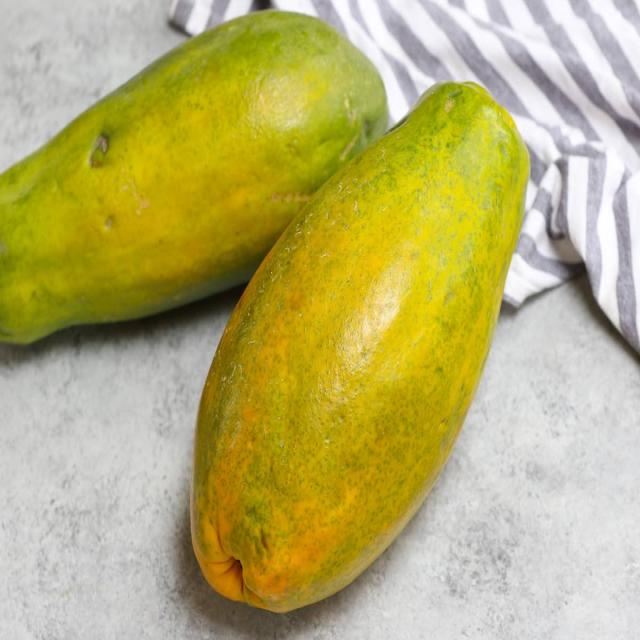Pepaya rippen: (179, 68, 532, 626), (1, 20, 394, 346)
